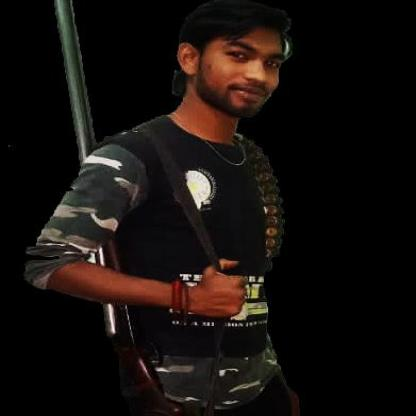rifle: (53, 0, 187, 415)
